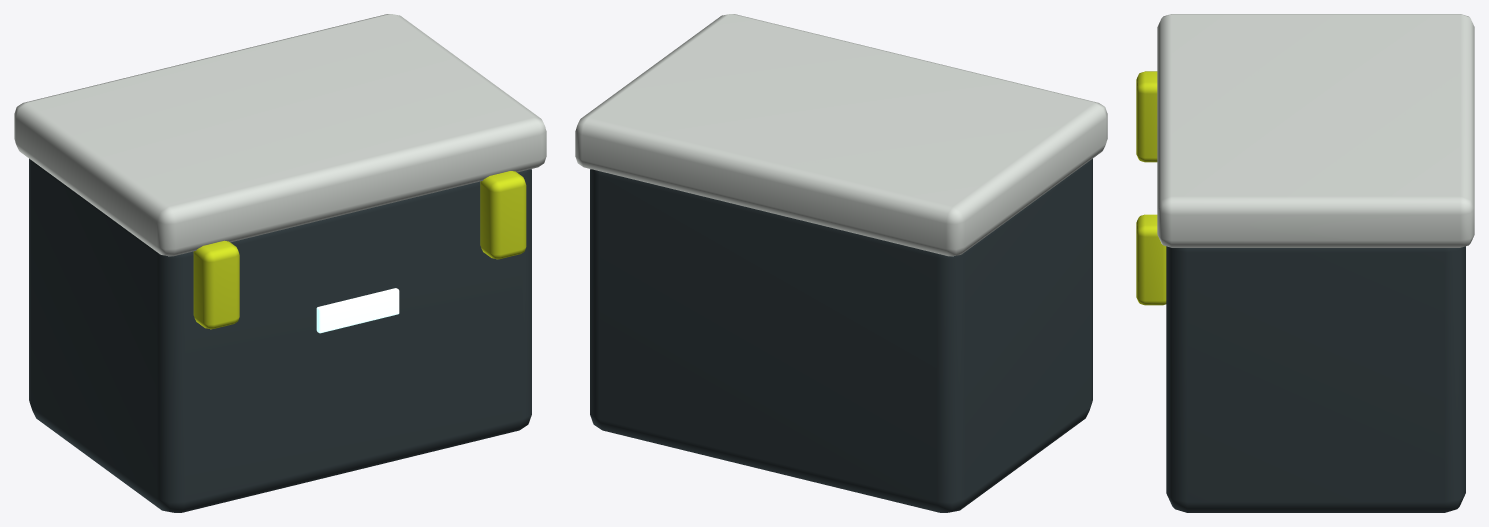
File: loot_crate.glb
The picture shows the model from 3 angles, left to right: view 1: azimuth 30°, elevation 25°; view 2: azimuth 150°, elevation 25°; view 3: azimuth 270°, elevation 25°; orthographic projection. The views are drawn at different scales.
Visible parts, largest first — view 1: loot_crate; view 2: loot_crate; view 3: loot_crate.
Part boxes in pixels (left/top/right/bottom): loot_crate: left=14, top=14, right=546, bottom=512; loot_crate: left=575, top=14, right=1107, bottom=512; loot_crate: left=1136, top=14, right=1474, bottom=512.
Size of the model in its own units: 1.3 by 1.01 by 0.96.
